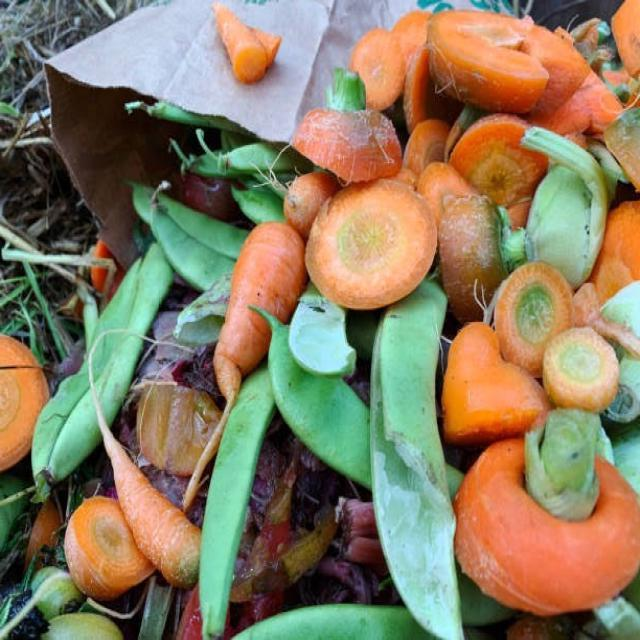organic: (448, 408, 640, 619), (26, 236, 176, 504), (366, 264, 471, 640), (424, 9, 584, 221), (439, 260, 621, 444), (191, 348, 288, 640), (302, 173, 436, 310), (289, 67, 407, 185), (60, 490, 157, 601)
